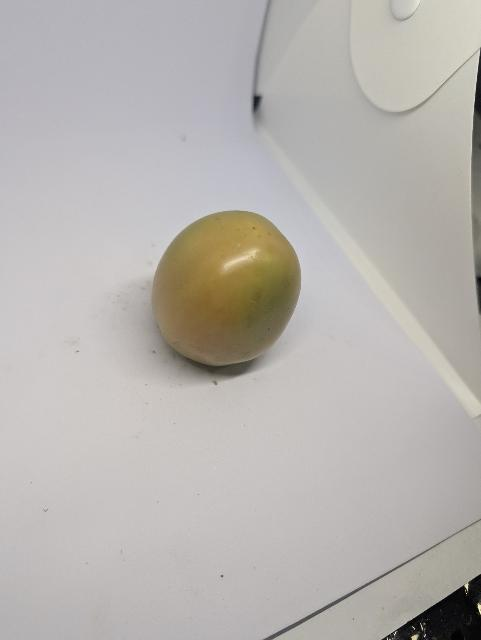breaker: (152, 211, 302, 366)
